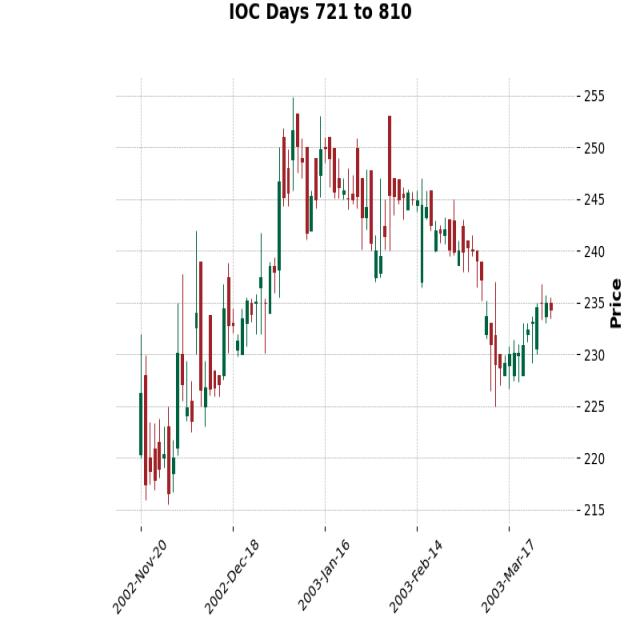Descending Triangle: (229, 65, 469, 318)
